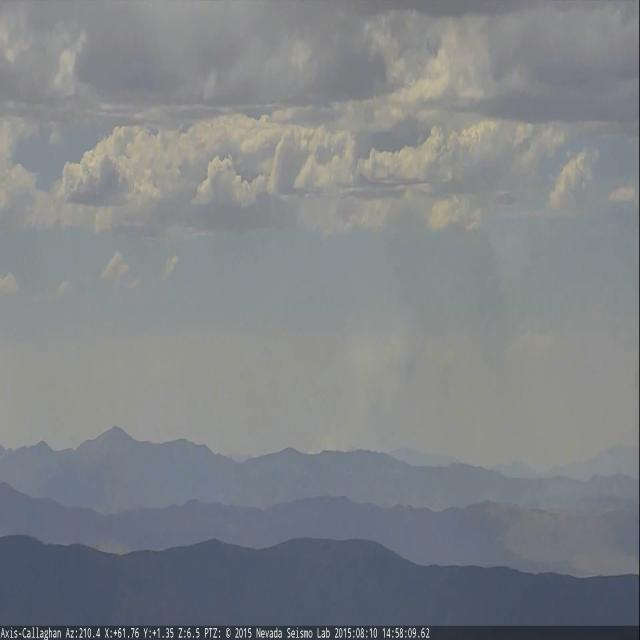smoke: (308, 339, 401, 455)
